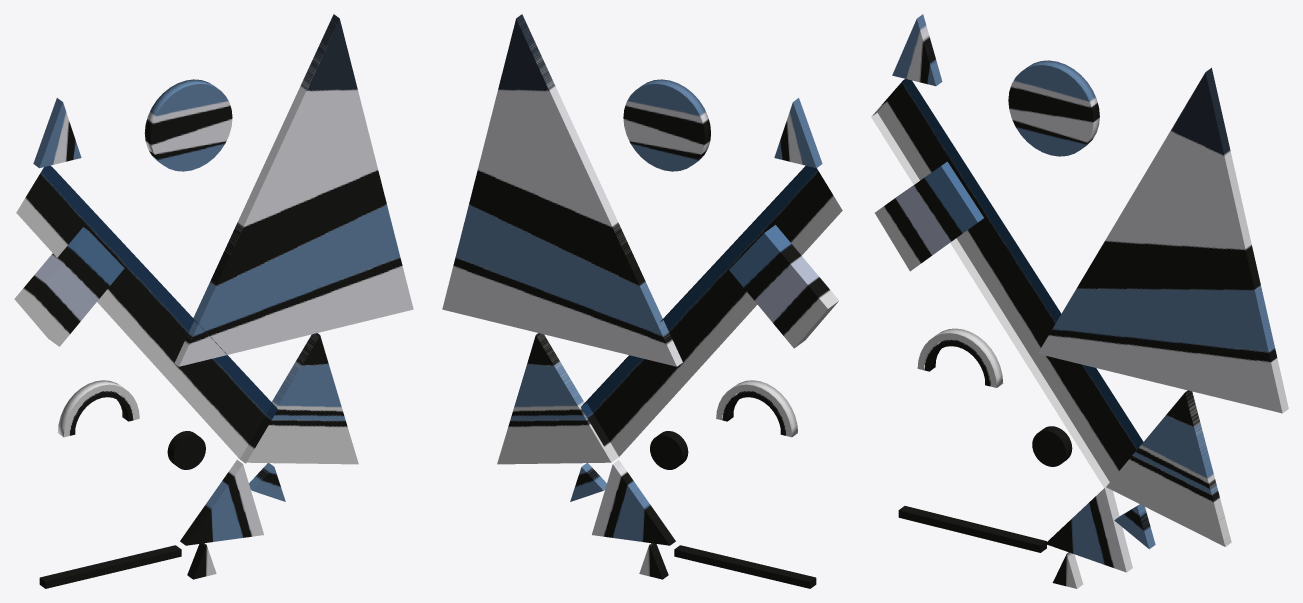
The model's file is figuras.fbx.
3 views of the same model, side by side, from view 1: azimuth 30°, elevation 25°; view 2: azimuth 150°, elevation 25°; view 3: azimuth 330°, elevation 25° (orthographic). The views are drawn at different scales.
Parts seen in each view (by area): view 1: Triang 1, Rect 2, Triang 2, Rect 1, Circu 1, Triang 4, Circu 3, Rect 3, Triang 6, Circu 2, Triang 3, Triang 5; view 2: Triang 1, Rect 2, Triang 2, Rect 1, Circu 1, Triang 4, Circu 3, Rect 3, Triang 6, Circu 2, Triang 3, Triang 5; view 3: Triang 1, Rect 2, Triang 2, Circu 1, Rect 1, Triang 4, Circu 3, Rect 3, Triang 6, Circu 2, Triang 3, Triang 5.
Boxes of the visible parts, x1,y1,x2,y2 form: Triang 1: [174, 14, 413, 366]; Rect 2: [16, 165, 277, 463]; Triang 2: [238, 333, 358, 464]; Rect 1: [14, 227, 124, 346]; Circu 1: [144, 79, 232, 171]; Triang 4: [180, 460, 263, 545]; Circu 3: [57, 380, 139, 437]; Rect 3: [39, 545, 181, 588]; Triang 6: [33, 98, 81, 168]; Circu 2: [167, 431, 205, 469]; Triang 3: [249, 463, 285, 501]; Triang 5: [187, 543, 216, 579]; Triang 1: [442, 14, 682, 366]; Rect 2: [581, 166, 842, 461]; Triang 2: [497, 333, 612, 464]; Rect 1: [729, 225, 839, 348]; Circu 1: [623, 79, 710, 171]; Triang 4: [592, 460, 675, 545]; Circu 3: [716, 380, 797, 437]; Rect 3: [674, 545, 816, 588]; Triang 6: [774, 98, 822, 168]; Circu 2: [650, 431, 688, 469]; Triang 3: [570, 463, 606, 501]; Triang 5: [639, 543, 668, 579]; Triang 1: [1038, 67, 1288, 413]; Rect 2: [871, 79, 1143, 487]; Triang 2: [1106, 390, 1231, 546]; Circu 1: [1008, 60, 1099, 156]; Rect 1: [875, 161, 983, 271]; Triang 4: [1045, 487, 1132, 572]; Circu 3: [917, 328, 1003, 387]; Rect 3: [898, 506, 1046, 552]; Triang 6: [892, 14, 942, 86]; Circu 2: [1032, 426, 1072, 466]; Triang 3: [1114, 504, 1155, 549]; Triang 5: [1052, 552, 1083, 588].
Size of the model in its own units: 562 by 718 by 28.04.
Materials: 1 (1 with a texture image).
